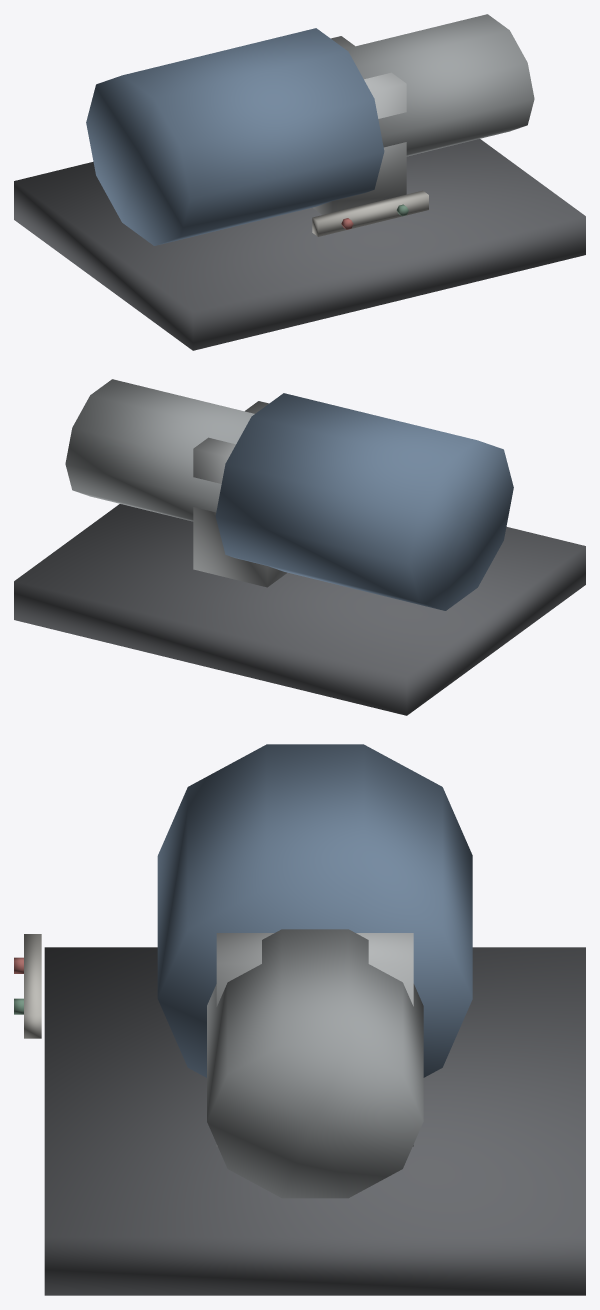
The model's file is circulation_pump__deep.glb.
The picture shows the model from 3 angles, top to bottom: view 1: azimuth 30°, elevation 25°; view 2: azimuth 150°, elevation 25°; view 3: azimuth 270°, elevation 25°; orthographic projection. The views are drawn at different scales.
Parts seen in each view (by area): view 1: world; view 2: world; view 3: world.
Part boxes in pixels (<box>): world: <box>14,14,585,350</box>; world: <box>14,379,585,715</box>; world: <box>14,744,585,1295</box>.
Size of the model in its own units: 0.855 by 0.3922 by 0.7088.
